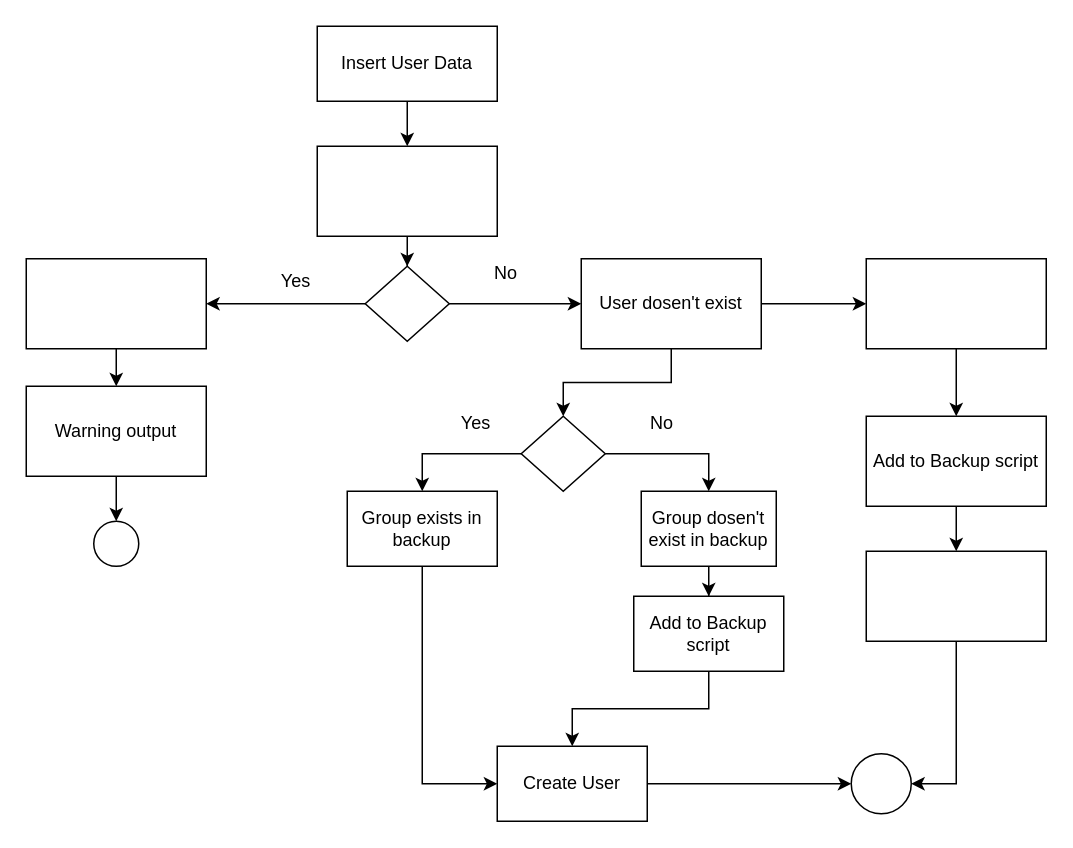
This 1073x848 diagram has some shape labels left out. Each missing label, with the centre of its shape:
Add User and Group: pixel 955 595
Group dosen't exist: pixel 955 303
Read Input: pixel 406 190
User Exists: pixel 115 303
